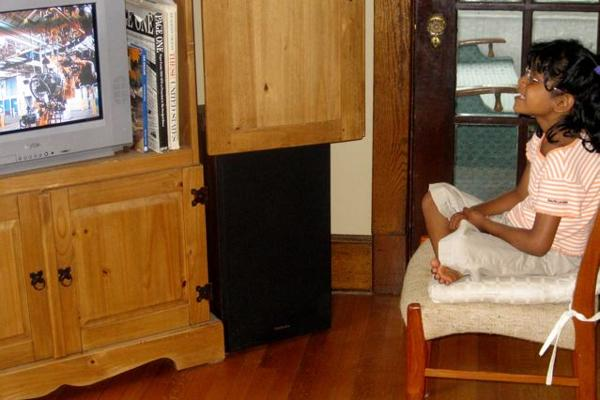person: (422, 39, 600, 289)
